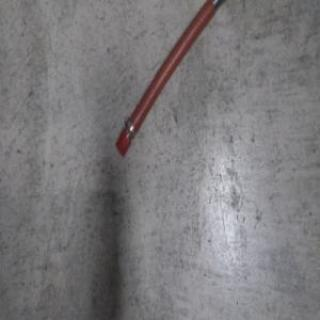Hosetrack_idkeyframe: (113, 0, 230, 160)
